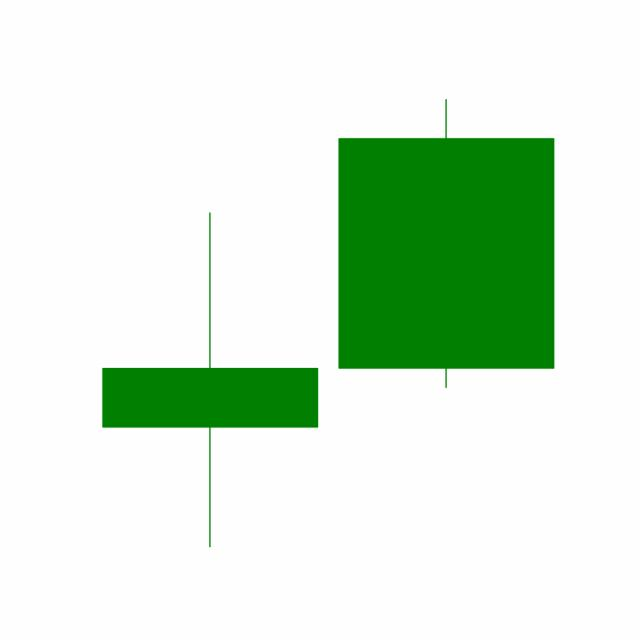Marubozu: (327, 95, 565, 391)
